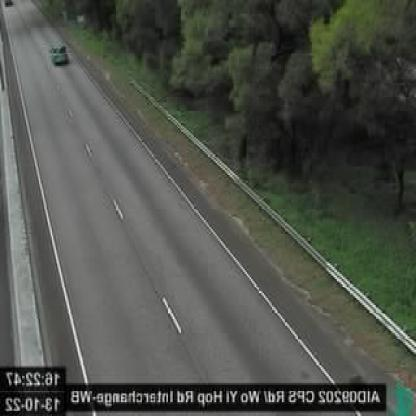Car: (49, 43, 70, 68)
